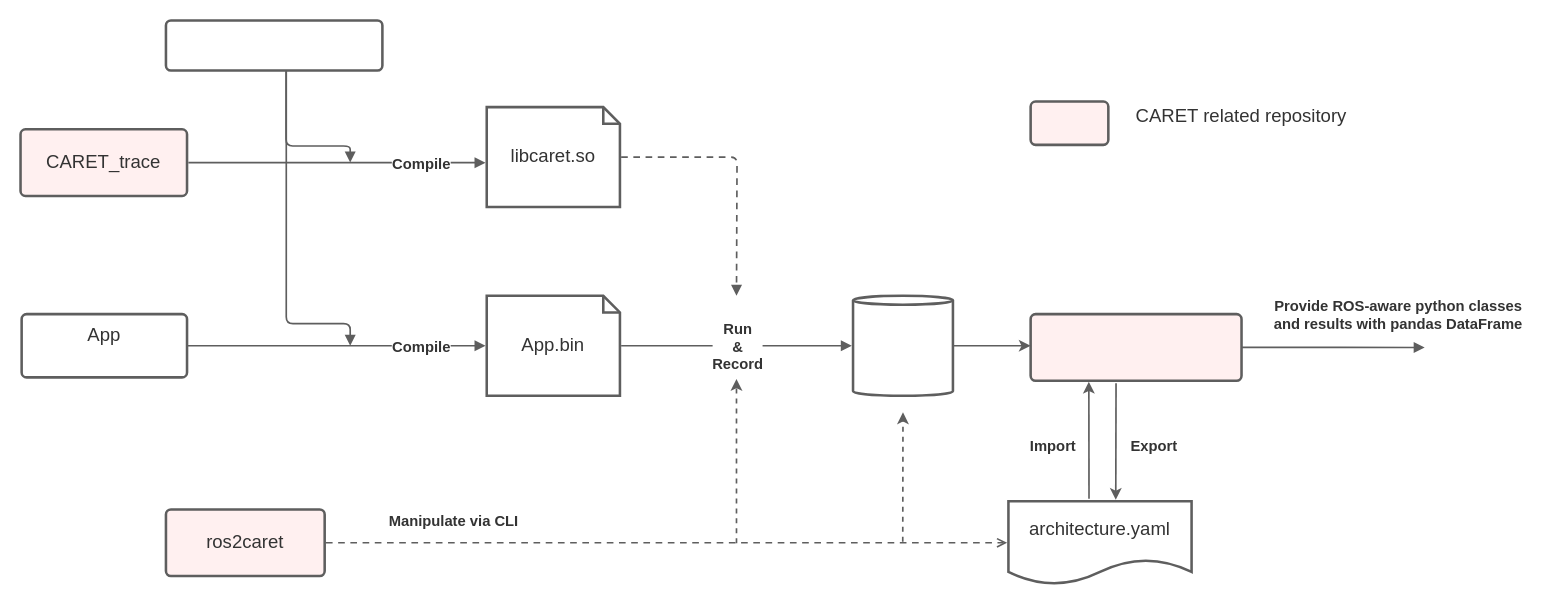
This 1542x605 diagram has some shape labels left out. Each missing label, with the centre of its shape:
"CARET_analyze" goes at point (1135, 347).
"ROS 2" goes at point (273, 45).
"Trace Data" goes at point (902, 345).
